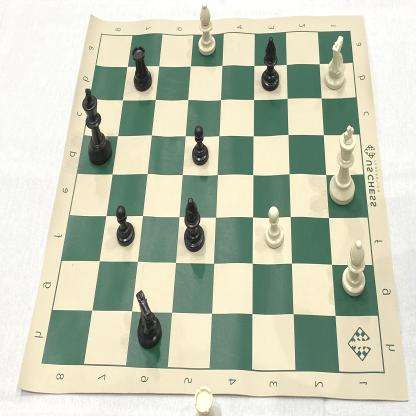black-bishop: (256, 29, 284, 96), (181, 193, 206, 256), (128, 40, 154, 97)
black-king: (79, 82, 116, 168)
black-knight: (129, 287, 164, 355)
black-pawn: (112, 202, 137, 250), (190, 121, 212, 169)
white-bishop: (340, 235, 370, 300), (194, 0, 219, 58)
white-king: (324, 121, 361, 209)
white-knight: (320, 27, 350, 96)
white-pawn: (262, 201, 286, 252)
